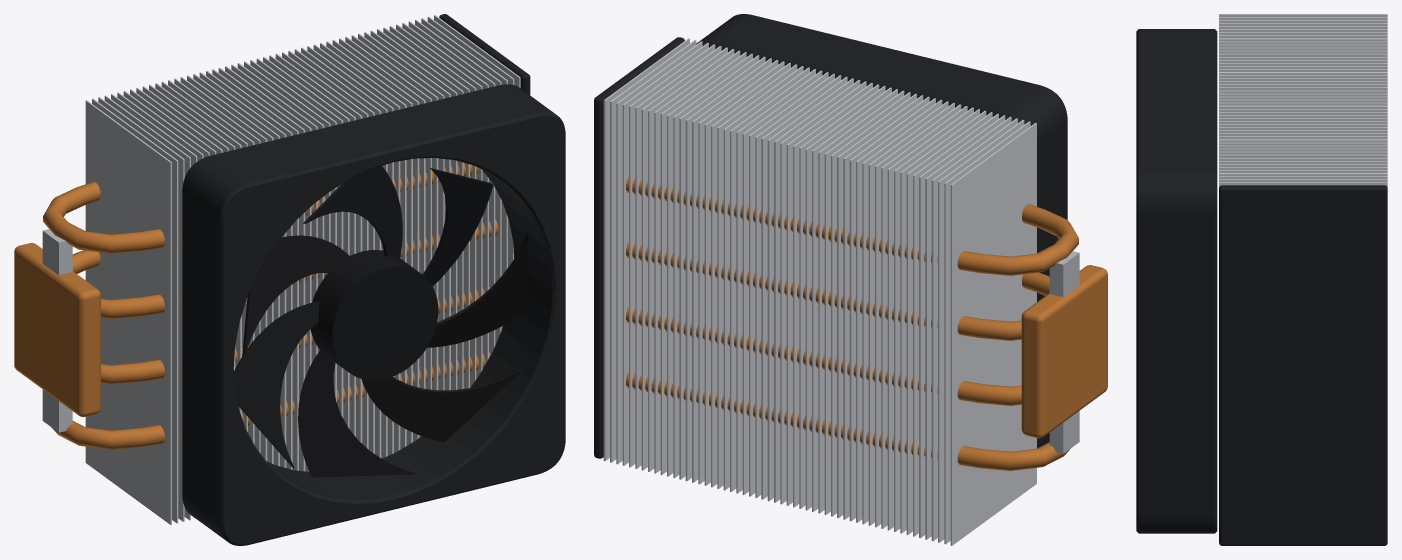
File: cooler-single-tower-v1.glb
3 views of the same model, side by side, from view 1: azimuth 30°, elevation 25°; view 2: azimuth 150°, elevation 25°; view 3: azimuth 270°, elevation 25° (orthographic).
Parts seen in each view (by area): view 1: fan_0__mesh, fin_stack_0__mesh, base__mesh, heatpipes__mesh, top_cover_0__mesh; view 2: fin_stack_0__mesh, fan_0__mesh, heatpipes__mesh, base__mesh, top_cover_0__mesh; view 3: top_cover_0__mesh, fan_0__mesh, fin_stack_0__mesh.
Boxes of the visible parts, left/top/right/bottom form: fan_0__mesh: left=182, top=84, right=565, bottom=545; fin_stack_0__mesh: left=85, top=15, right=520, bottom=524; base__mesh: left=14, top=229, right=100, bottom=432; heatpipes__mesh: left=43, top=163, right=498, bottom=449; top_cover_0__mesh: left=439, top=14, right=530, bottom=94; fin_stack_0__mesh: left=603, top=38, right=1036, bottom=545; fan_0__mesh: left=696, top=14, right=1067, bottom=448; heatpipes__mesh: left=626, top=177, right=1078, bottom=470; base__mesh: left=1021, top=251, right=1107, bottom=453; top_cover_0__mesh: left=594, top=37, right=684, bottom=458; top_cover_0__mesh: left=1219, top=185, right=1387, bottom=545; fan_0__mesh: left=1136, top=29, right=1217, bottom=533; fin_stack_0__mesh: left=1219, top=14, right=1387, bottom=187.
Bounding box in the file's own units: 0.156 × 0.122 × 0.0775.
